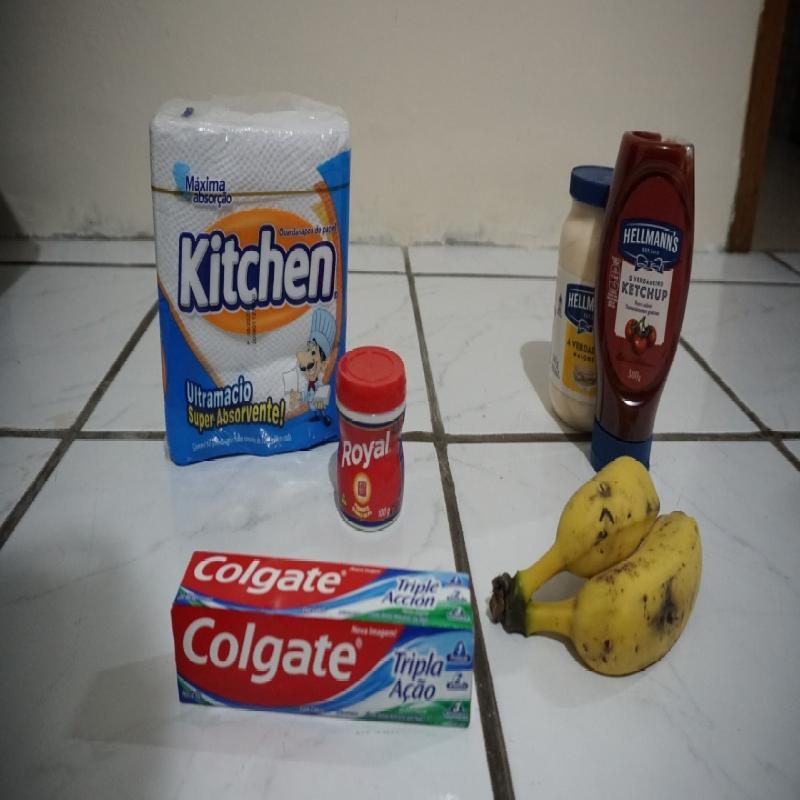Banana: (490, 453, 704, 681)
Ketchup: (590, 129, 696, 474)
Mayonnaise: (552, 163, 613, 430)
Napkin: (148, 96, 350, 470)
Toothpaste: (172, 550, 477, 731)
Yeast: (334, 344, 408, 535)
